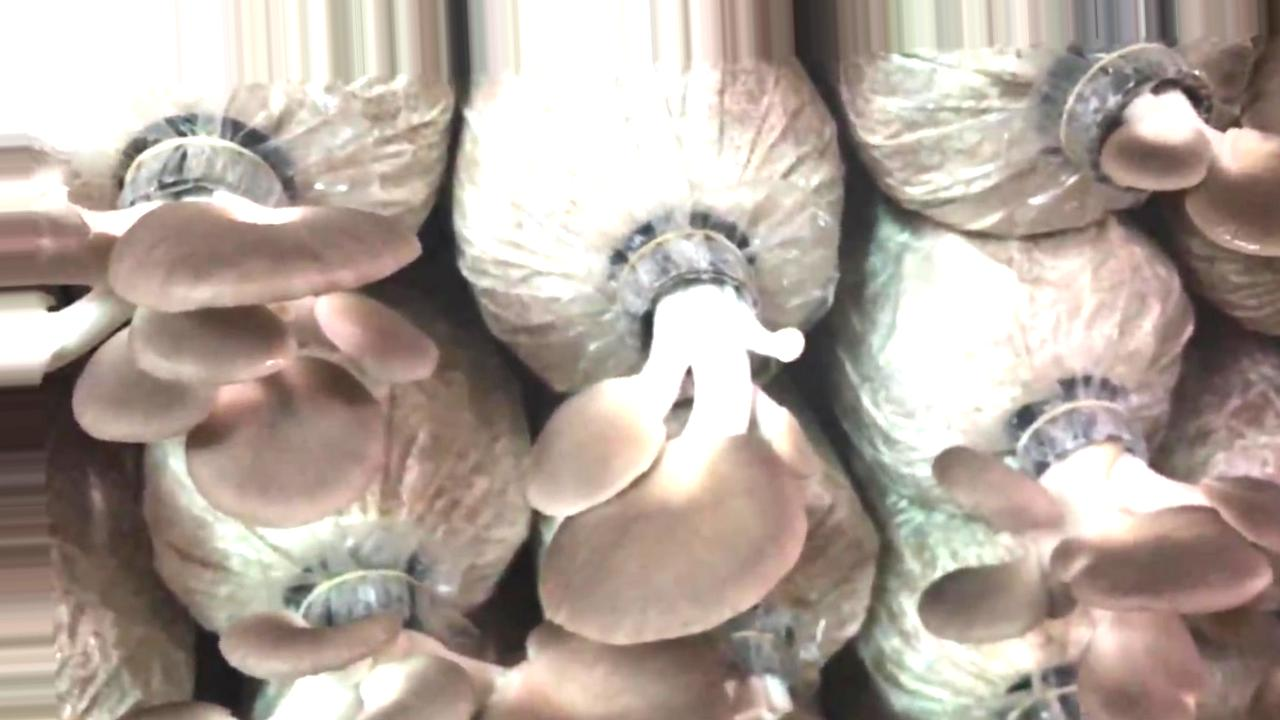nam: (1, 135, 439, 527), (523, 225, 813, 648), (917, 405, 1280, 647), (222, 566, 736, 720), (1068, 45, 1280, 254)
